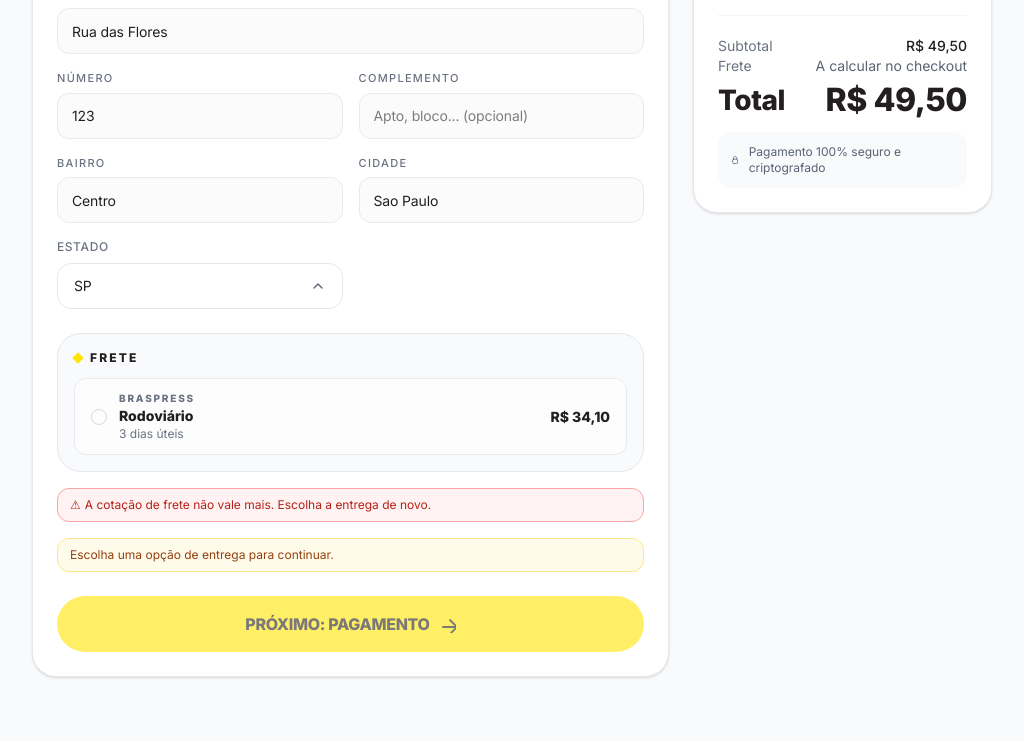
Test case: CheckoutAddressStepContent › explains why the customer came back when the backend refused a stale quote
This screenshot has width=1024, height=741.
(page scrolled)
Expected: the text "A cotação de frete não vale mais. Escolha a entrega de novo." is shown, [85, 497, 431, 513]
Click the radio button labelled "Braspress Rodoviário 3 dias úteis R$ 34,10" at (157, 398), box [74, 378, 627, 455]
(page scrolled)
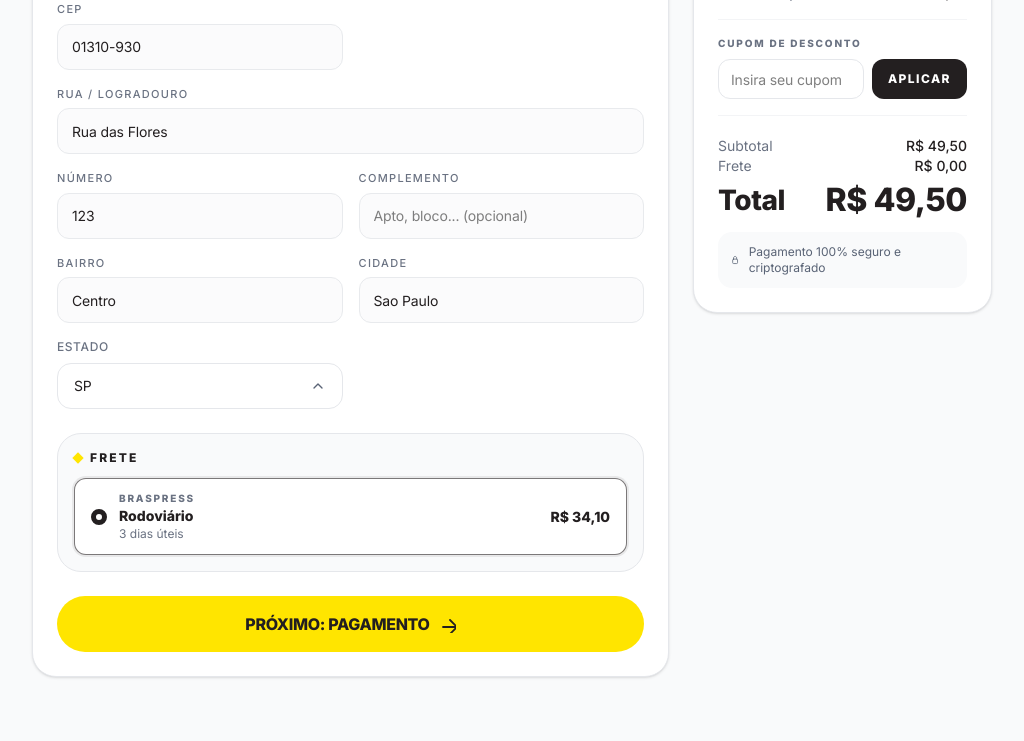
Result: the text "A cotação de frete não vale mais. Escolha a entrega de novo." is gone
